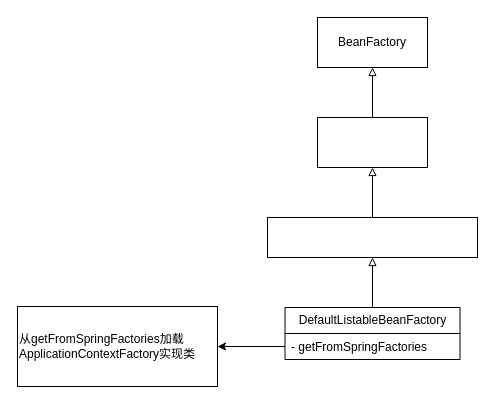
Image size: 495x404. Some labels were removed from this diagram. Each missing label, with the centre of its shape:
"ConfigurableListableBeanFactory" goes at [372,237].
"ListableBeanFactory" goes at [372,142].
